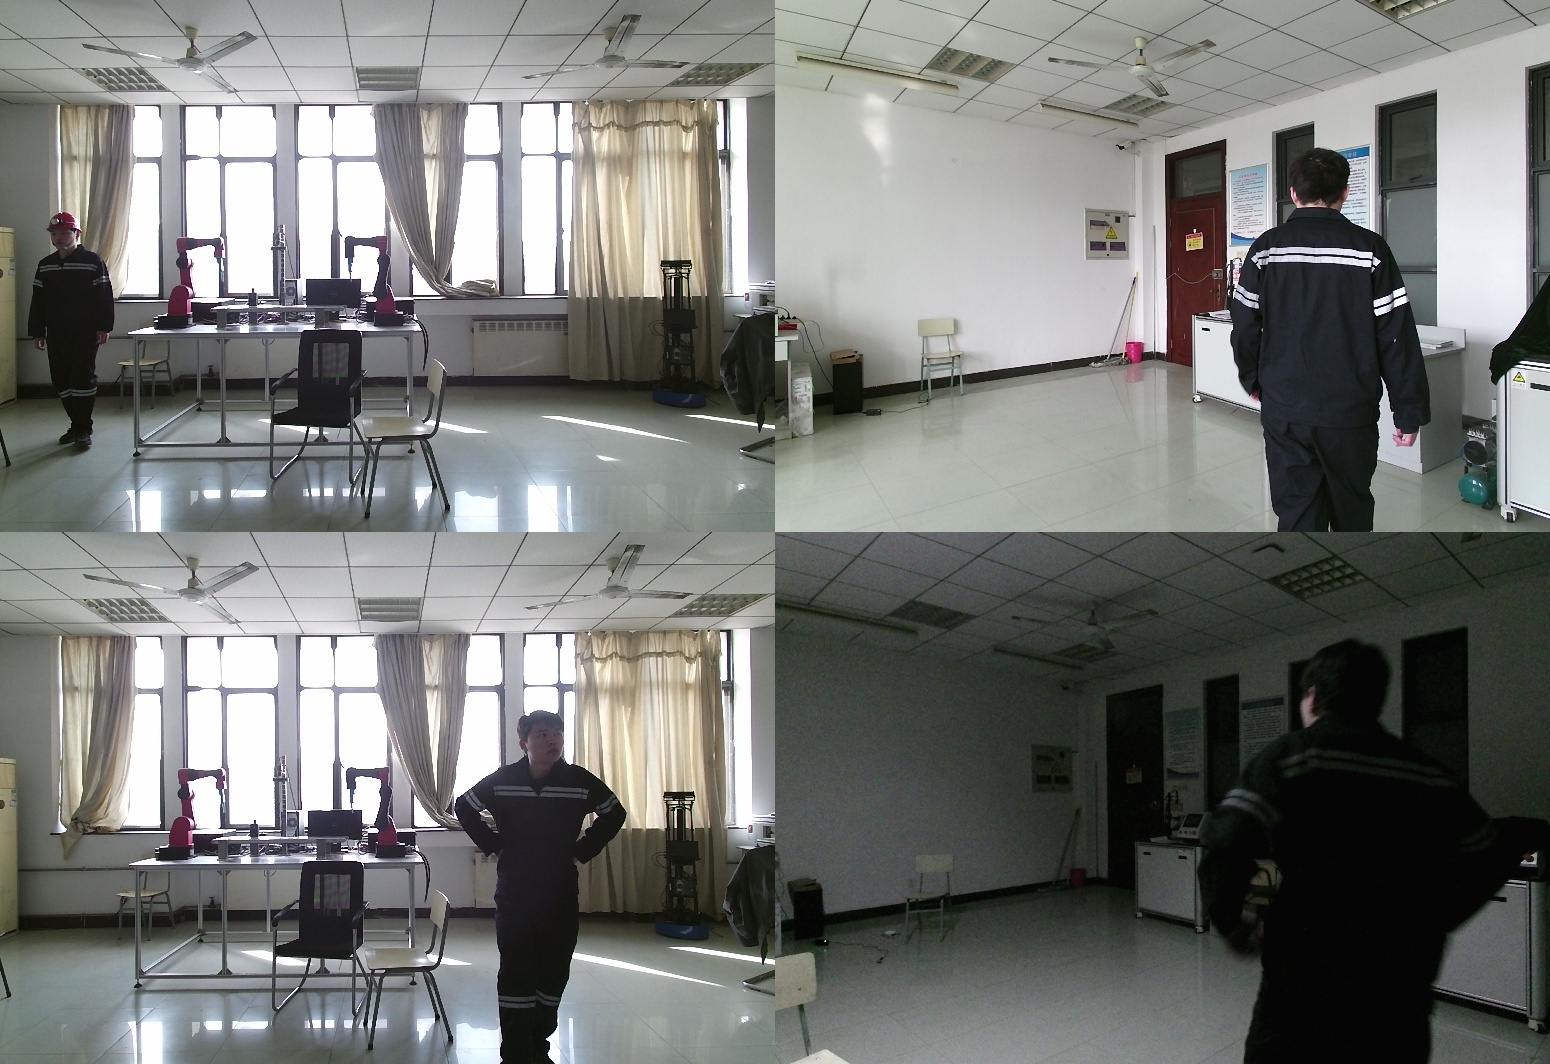person: (1193, 651, 1510, 1064), (1235, 148, 1449, 532), (459, 715, 639, 1063), (28, 215, 126, 447)
